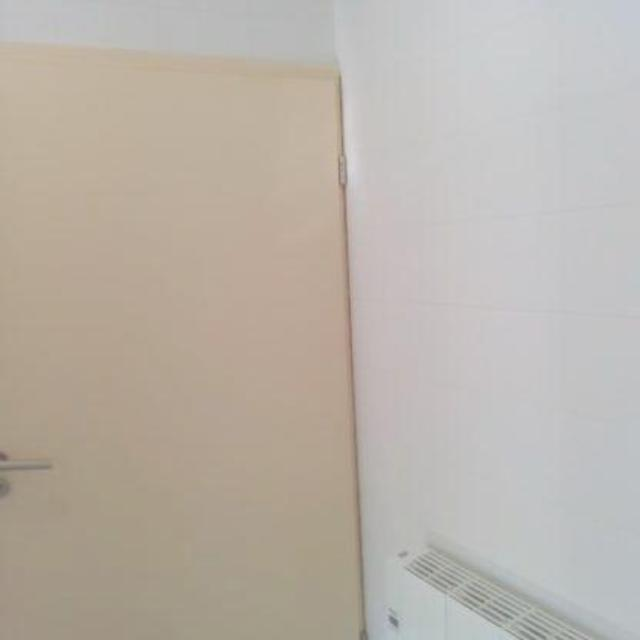door: (0, 36, 368, 638)
